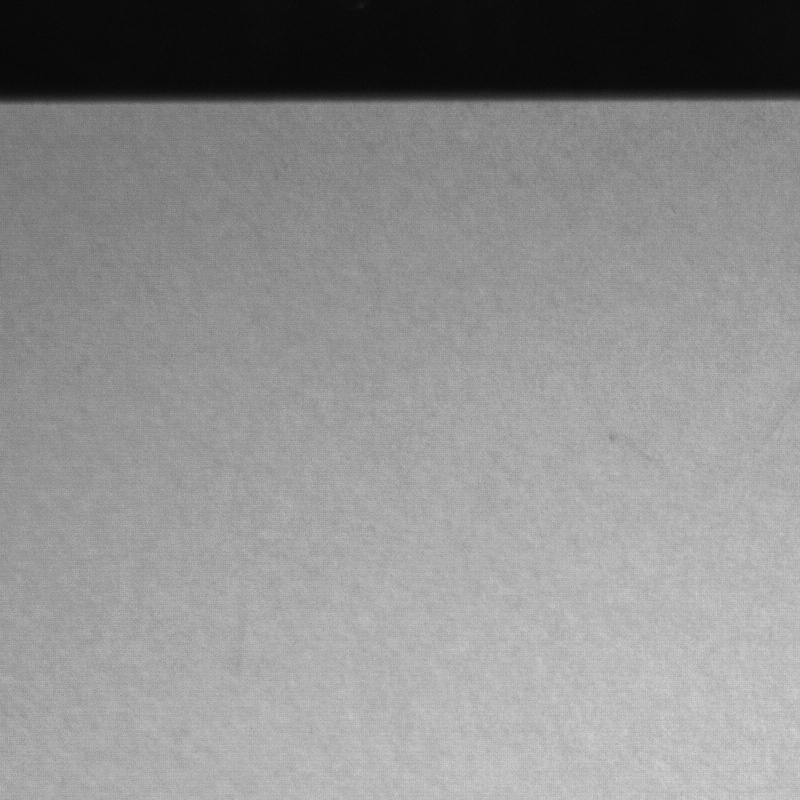defect: (607, 429, 662, 461)
